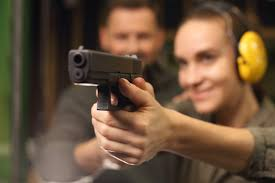gun: (66, 44, 159, 166)
